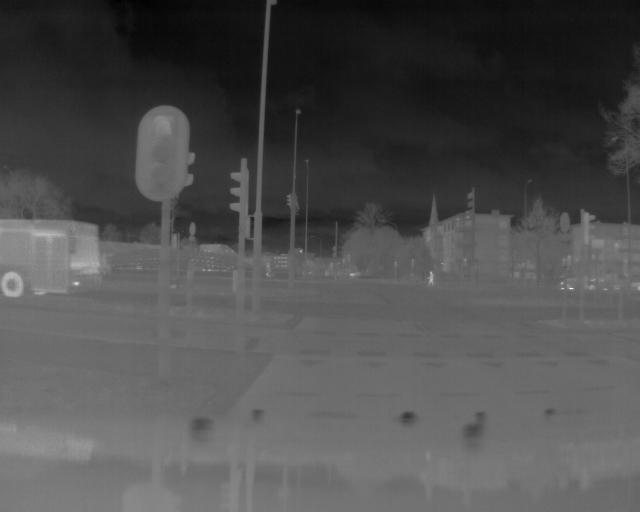car: (1, 216, 108, 298)
person: (427, 270, 433, 287)
